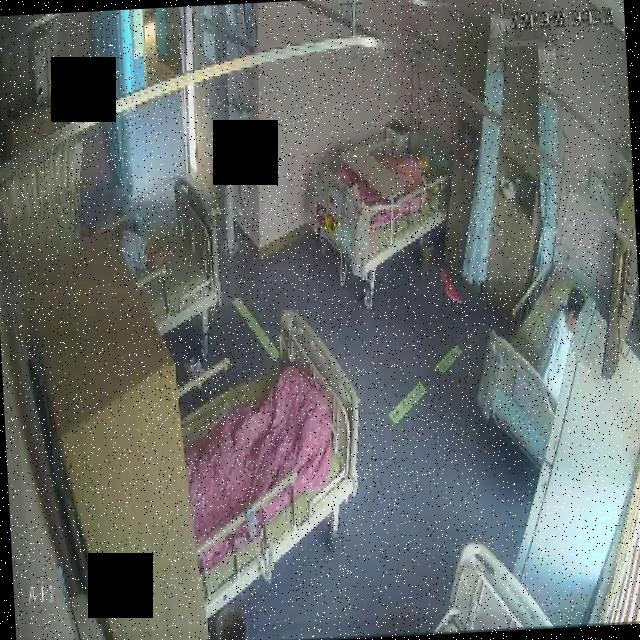bed: (174, 314, 363, 588), (472, 245, 598, 472), (308, 124, 456, 279), (122, 172, 225, 334)
patient: (534, 287, 592, 399)
sit: (534, 286, 592, 400)
